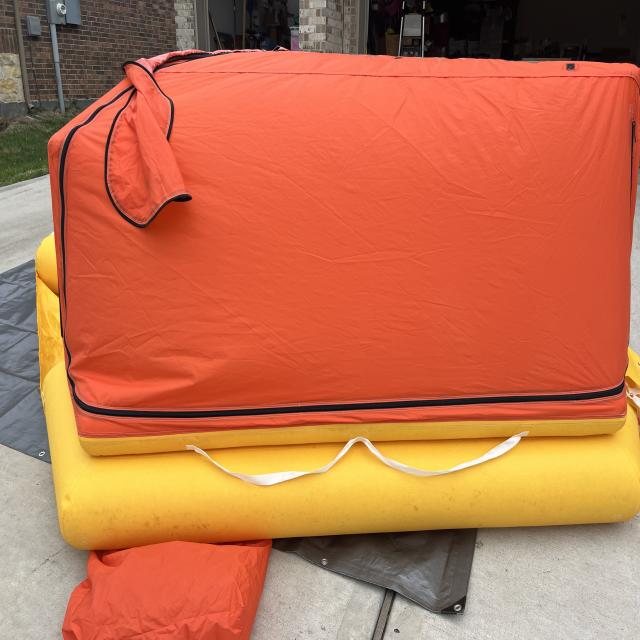Multi-person_life_raft: (34, 44, 639, 639)
